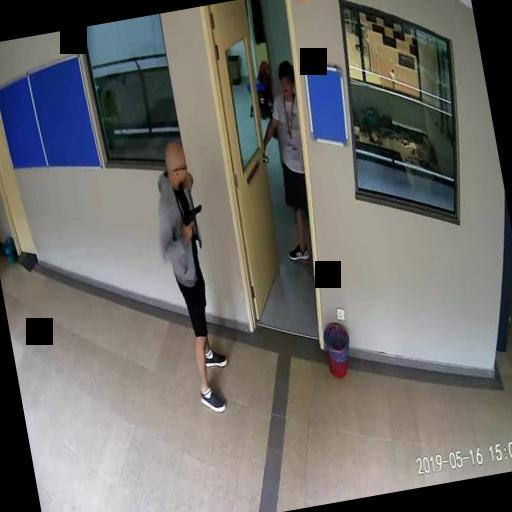Handgun: (179, 203, 205, 234)
